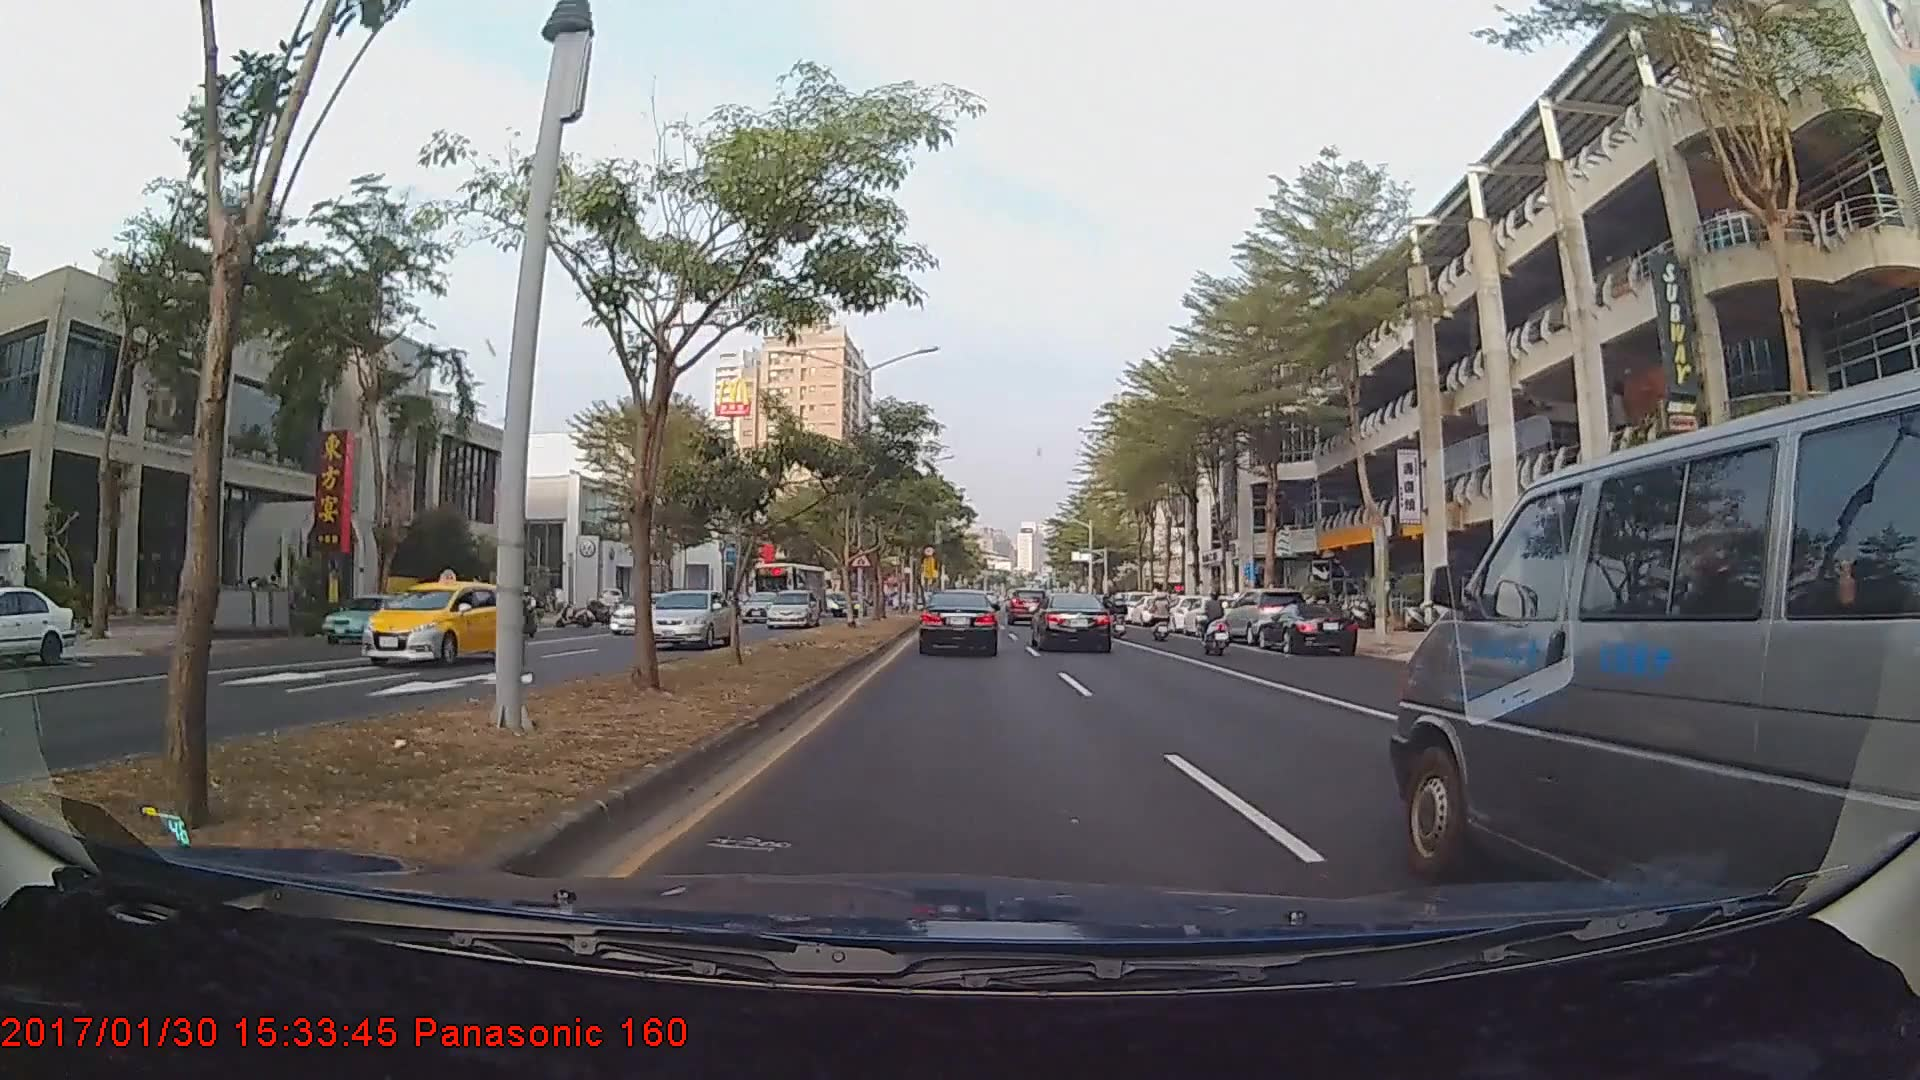rider: (1197, 589, 1236, 660), (1146, 587, 1176, 645), (1109, 588, 1131, 638)
vehicle: (1401, 400, 1915, 907), (359, 574, 519, 669), (915, 589, 1000, 657), (1030, 591, 1114, 653), (647, 589, 735, 649), (1225, 588, 1310, 647), (749, 561, 828, 623), (1258, 602, 1358, 652), (321, 593, 417, 643), (609, 591, 676, 635), (1182, 593, 1238, 635), (763, 588, 818, 630), (1005, 589, 1048, 626), (827, 590, 863, 617)
